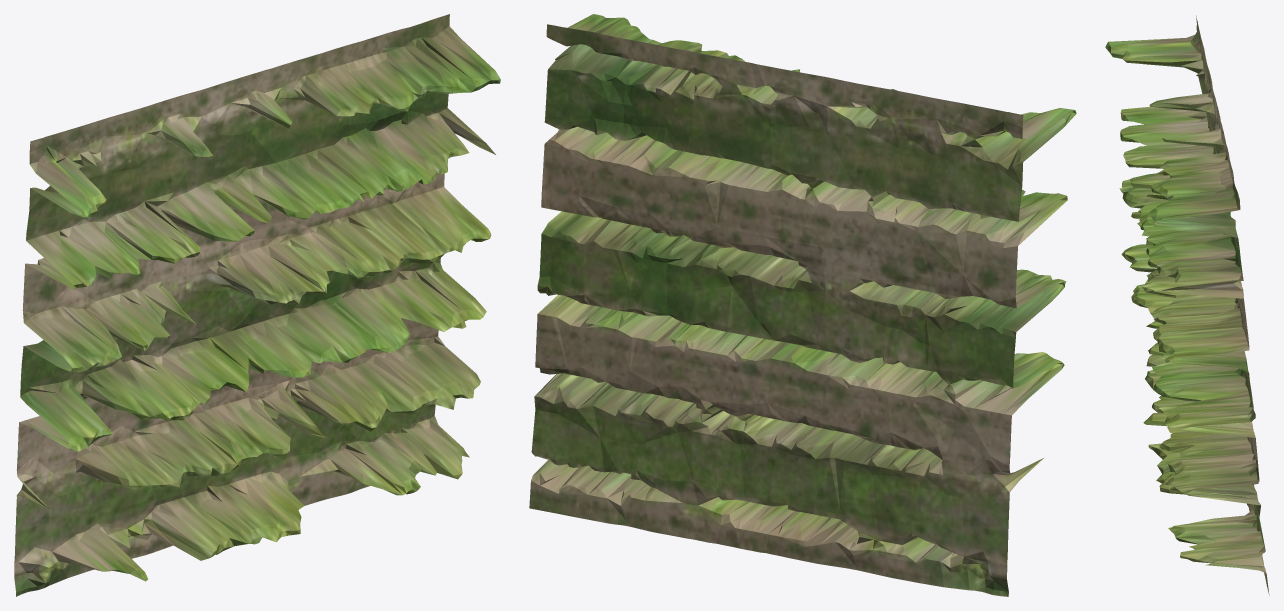
The model's file is map_70_30.obj.
The picture shows the model from 3 angles, left to right: view 1: azimuth 30°, elevation 25°; view 2: azimuth 150°, elevation 25°; view 3: azimuth 270°, elevation 25°; orthographic projection. The views are drawn at different scales.
Visible parts, largest first — view 1: grp1; view 2: grp1; view 3: grp1.
Boxes of the visible parts, x1,y1,x2,y2 form: grp1: (14,14,500,596); grp1: (529,14,1076,596); grp1: (1105,15,1269,594).
Bounding box in the file's own units: 10 × 10 × 3.74.
1 material, 1 textured.
